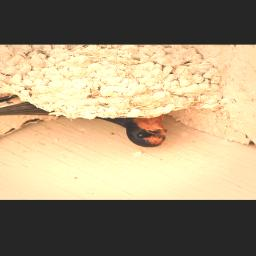Swallow: (0, 89, 169, 149)
